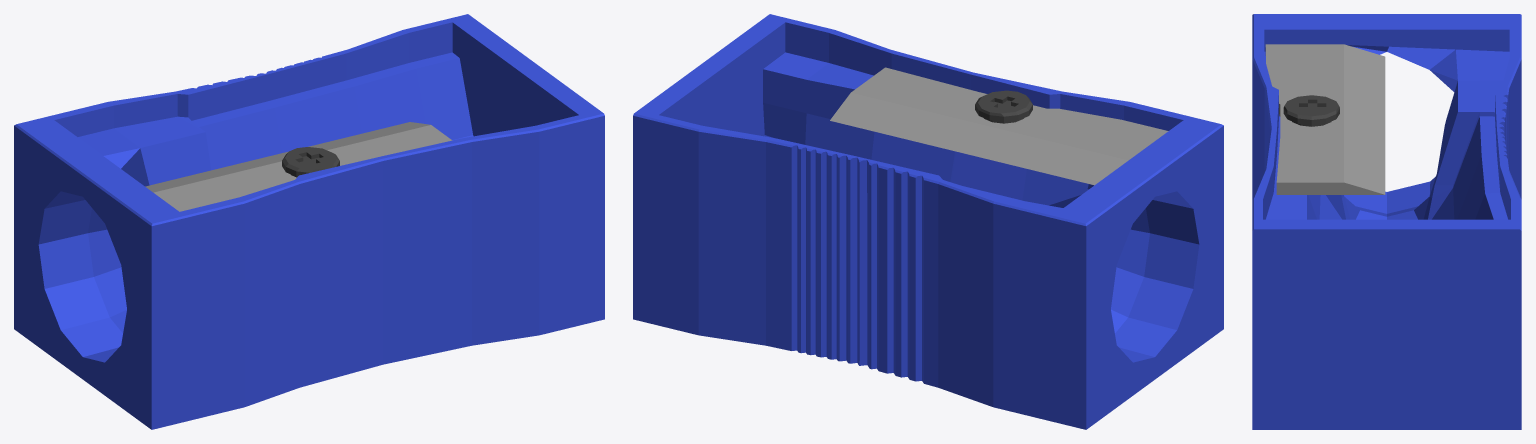
File: apontador (3 partes).fbx
3 views of the same model, side by side, from view 1: azimuth 30°, elevation 25°; view 2: azimuth 150°, elevation 25°; view 3: azimuth 270°, elevation 25° (orthographic). The views are drawn at different scales.
Parts seen in each view (by area): view 1: Cube.001, Cube.002, Cylinder.004; view 2: Cube.001, Cube.002, Cylinder.004; view 3: Cube.001, Cube.002, Cylinder.004.
Part boxes in pixels (x1,y1,x2,y2): Cube.001: [14, 14, 604, 429]; Cube.002: [145, 122, 452, 211]; Cylinder.004: [282, 147, 339, 177]; Cube.001: [633, 14, 1223, 429]; Cube.002: [830, 67, 1168, 185]; Cylinder.004: [975, 90, 1032, 123]; Cube.001: [1252, 14, 1521, 429]; Cube.002: [1265, 44, 1385, 194]; Cylinder.004: [1283, 95, 1339, 126].
Bounding box in the file's own units: 105 × 45.47 × 55.29.
